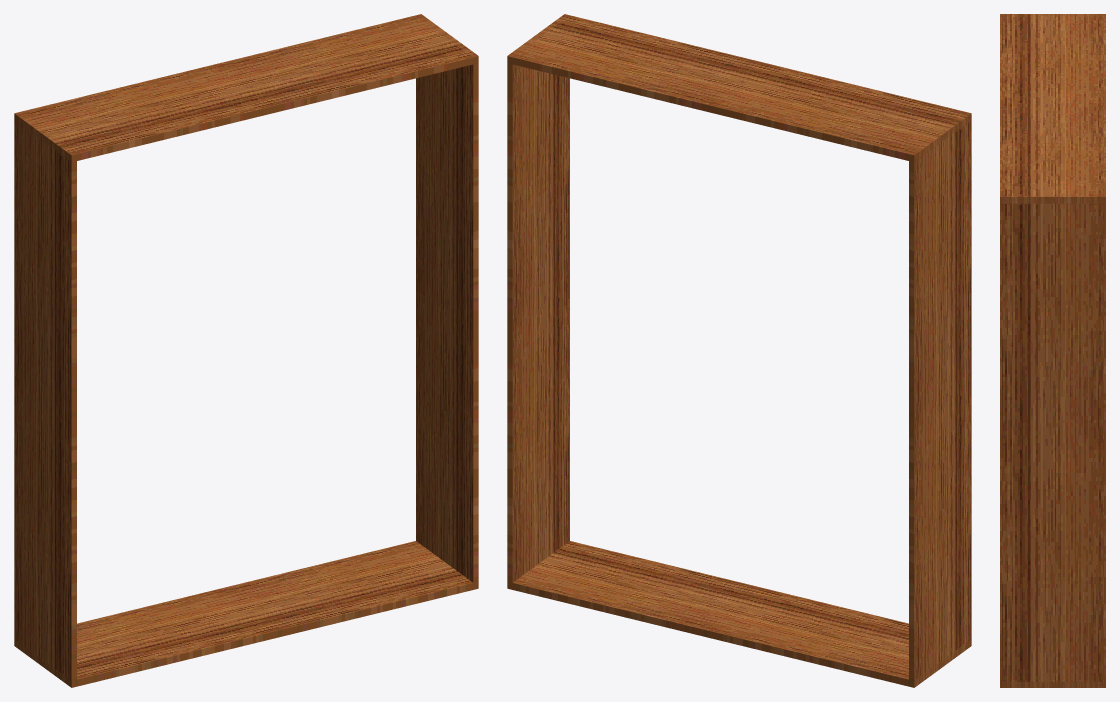
The model's file is 03_book_case.glb.
3 renders of one model, left to right at view 1: azimuth 30°, elevation 25°; view 2: azimuth 150°, elevation 25°; view 3: azimuth 270°, elevation 25°, orthographic. The views are drawn at different scales.
Visible parts, largest first — view 1: Intact.001; view 2: Intact.001; view 3: Intact.001.
Boxes of the visible parts, left/top/right/bottom form: Intact.001: left=14, top=14, right=478, bottom=687; Intact.001: left=507, top=14, right=971, bottom=687; Intact.001: left=1000, top=14, right=1105, bottom=687.
Size of what is drawn, in the model's own units: 2 by 2.5 by 0.4888.
1 material, 1 textured.
